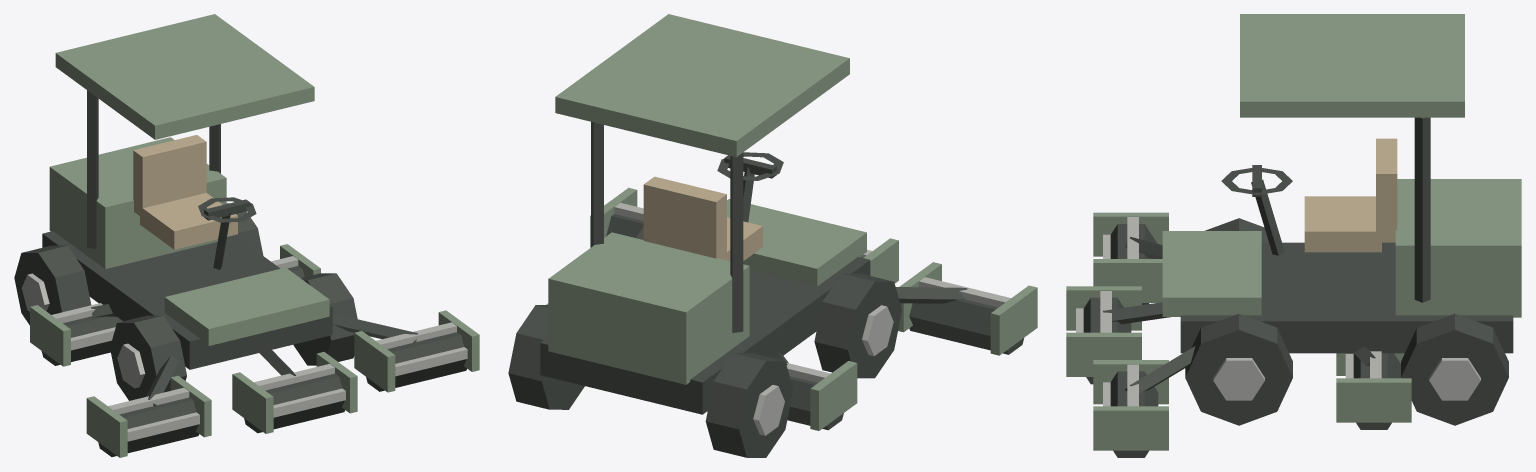
Rendered from fairway_mower_03.glb.
3 views of the same model, side by side, from view 1: azimuth 30°, elevation 25°; view 2: azimuth 150°, elevation 25°; view 3: azimuth 270°, elevation 25° (orthographic). The views are drawn at different scales.
Parts seen in each view (by area): view 1: Fairway_mower_03; view 2: Fairway_mower_03; view 3: Fairway_mower_03.
Boxes of the visible parts, x1,y1,x2,y2 form: Fairway_mower_03: (14, 14, 479, 457); Fairway_mower_03: (508, 14, 1037, 457); Fairway_mower_03: (1066, 14, 1521, 457).
Size of the model in its own units: 2.7 by 1.98 by 2.62.
